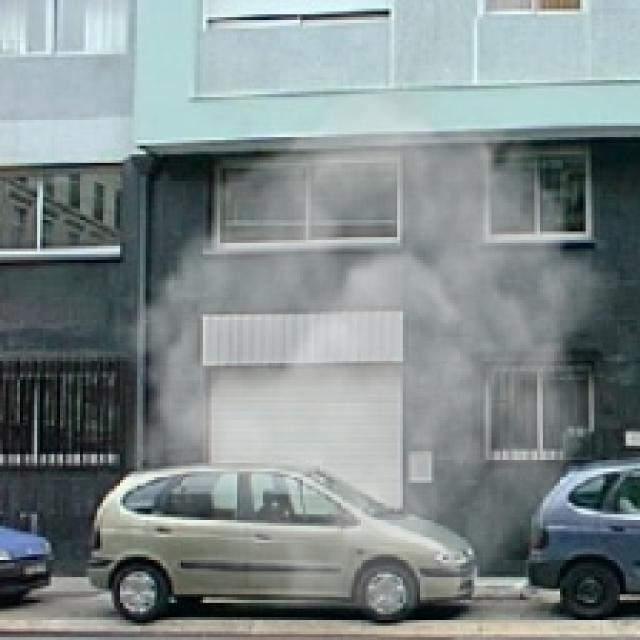Smoke: (105, 94, 626, 609)
